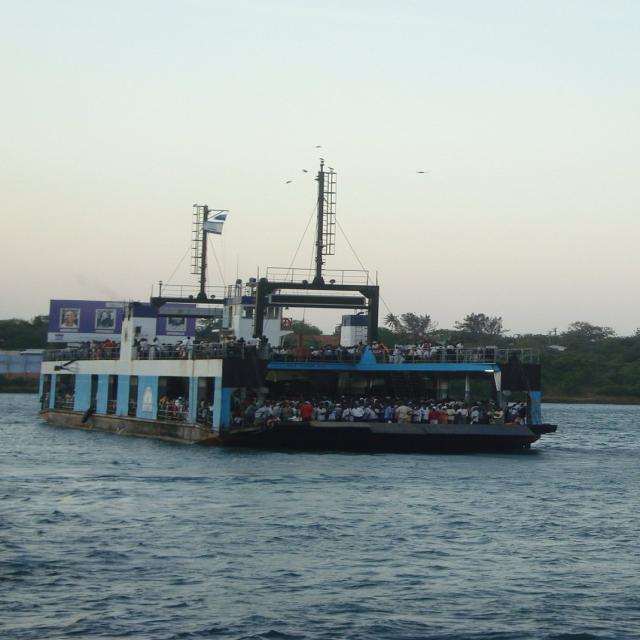passenger ship: (37, 156, 575, 454)
